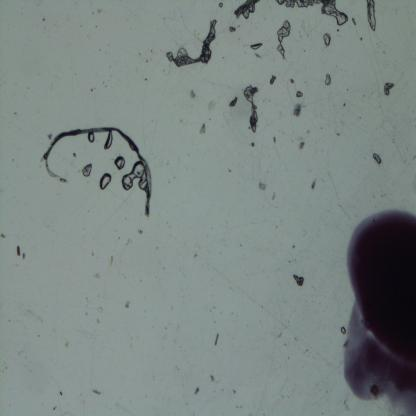Air bubble: (121, 162, 148, 191), (273, 20, 292, 58), (366, 0, 378, 32), (99, 172, 112, 191), (103, 130, 114, 150), (249, 41, 264, 52), (114, 156, 125, 170), (82, 162, 92, 177), (323, 33, 332, 46), (88, 133, 96, 144), (340, 326, 346, 335)
Background material: (165, 19, 218, 70), (275, 0, 348, 26), (244, 84, 260, 133), (292, 272, 303, 287), (384, 81, 394, 97), (228, 96, 238, 108), (258, 181, 268, 193), (324, 73, 332, 87), (198, 122, 206, 136), (294, 103, 302, 117), (373, 153, 382, 165), (90, 388, 103, 396), (268, 75, 278, 85), (14, 246, 22, 258), (188, 90, 196, 102), (228, 24, 237, 34), (271, 134, 278, 146), (310, 178, 317, 190), (214, 333, 219, 348), (193, 385, 200, 395), (298, 140, 304, 150), (210, 374, 216, 384), (296, 91, 304, 98), (289, 78, 295, 86), (47, 132, 53, 140), (219, 1, 223, 9), (250, 142, 256, 147)
Cotton: (42, 125, 152, 217)
Glass filter fibre: (114, 401, 132, 414), (72, 152, 77, 160)
Pen: (343, 208, 416, 415)
